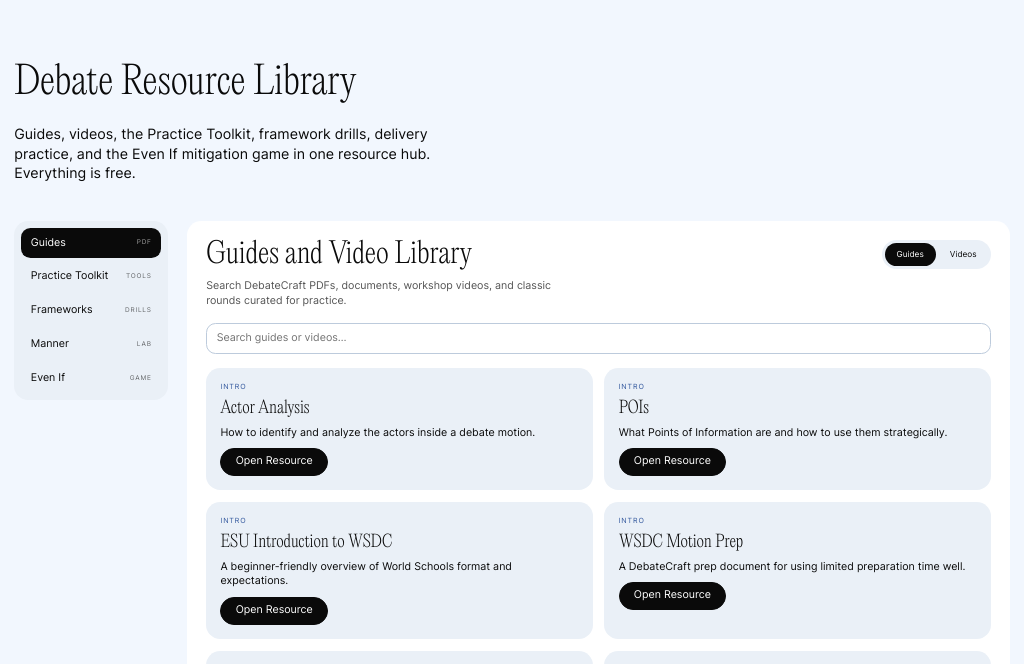
Scenario: the manner lab changes advice with the sliders, archetypes and emphasised word
The image size is (1024, 664).
Click the tab "Manner Lab": (91, 345) [21,330,161,359]
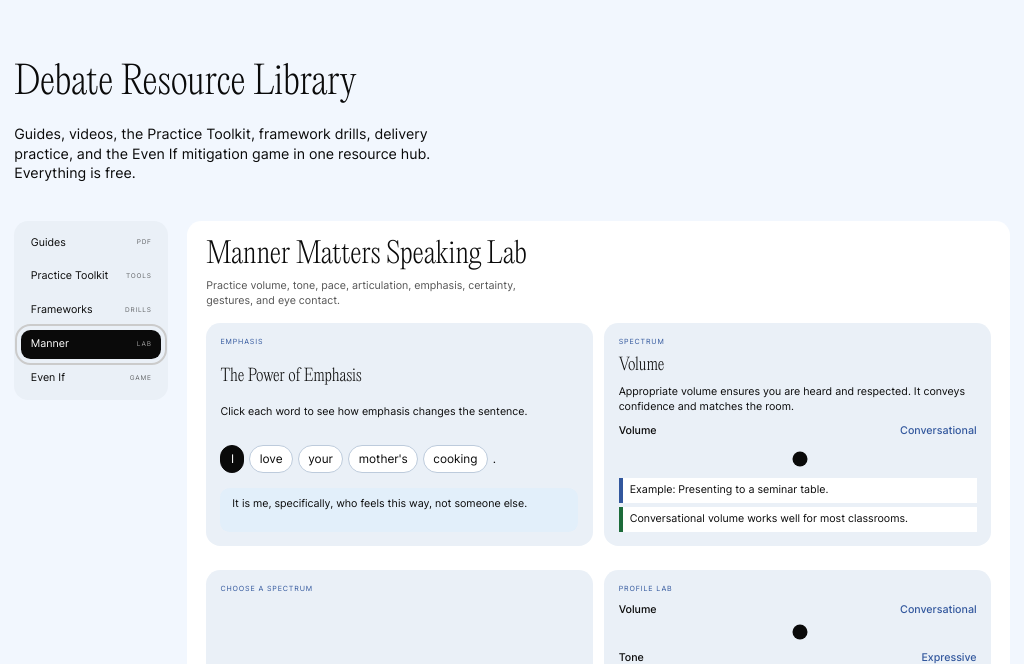
Click the button "cooking": (455, 459) [423,445,488,473]
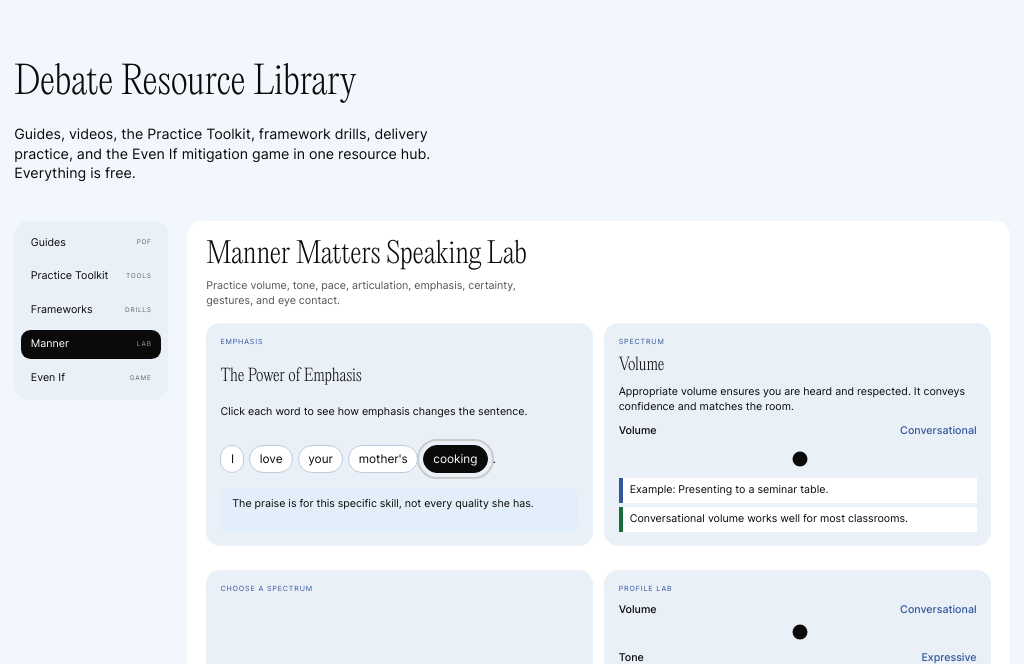
Expected: the text "The praise is for this specific skill, not every quality she has." is shown, [220,488,578,532]
Set the slider labelled "Volume" below "The Power of Emphasis" to "5": (971, 459) [621,451,979,467]
(page scrolled)
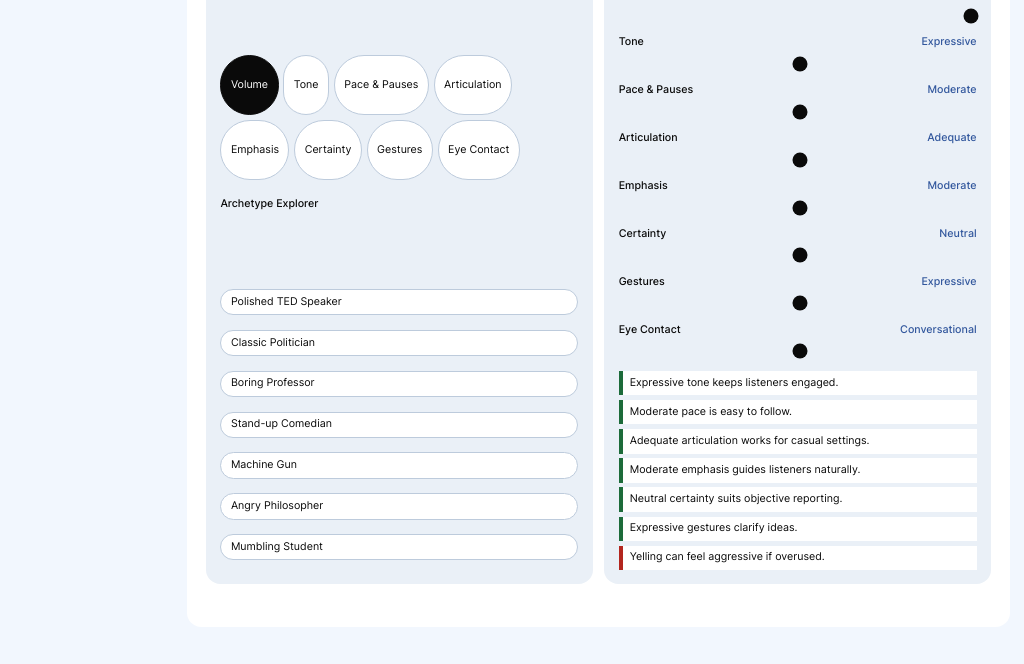
Click the button "Boring Professor": (273, 383) [220,371,578,397]
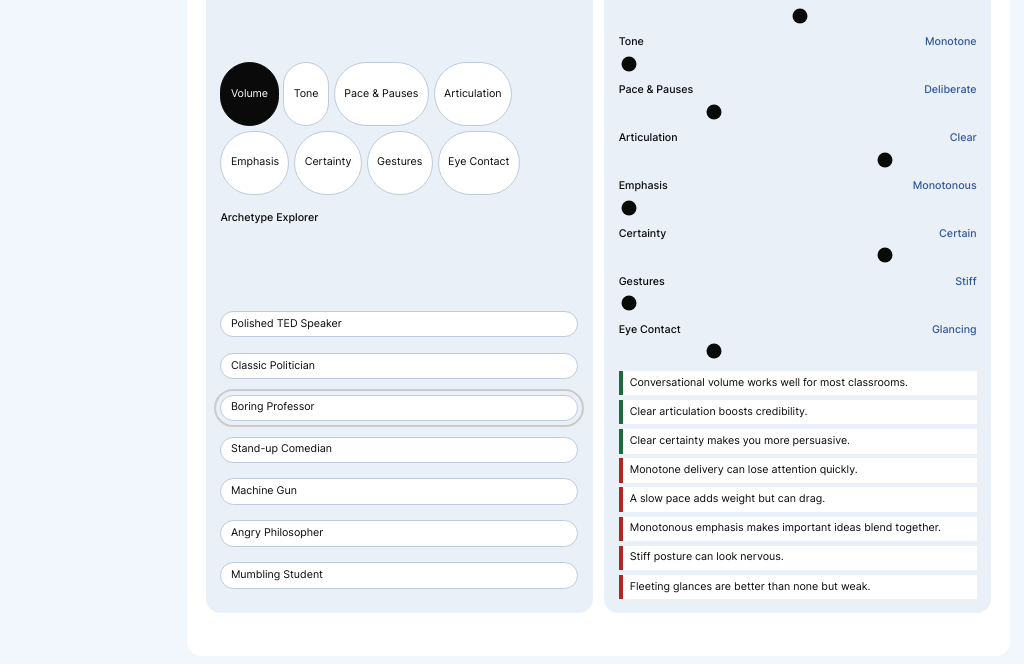
Expected: the text "Monotone delivery can lose attention quickly." is shown, [619,458,977,483]
